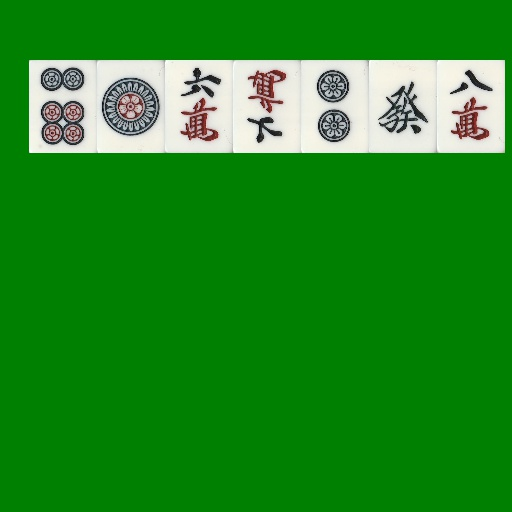1p: (97, 60, 165, 153)
2p: (301, 60, 369, 153)
6m: (165, 60, 233, 153)
6p: (29, 60, 97, 153)
7m: (233, 60, 301, 153)
8m: (437, 60, 505, 153)
hatsu: (369, 60, 437, 153)
